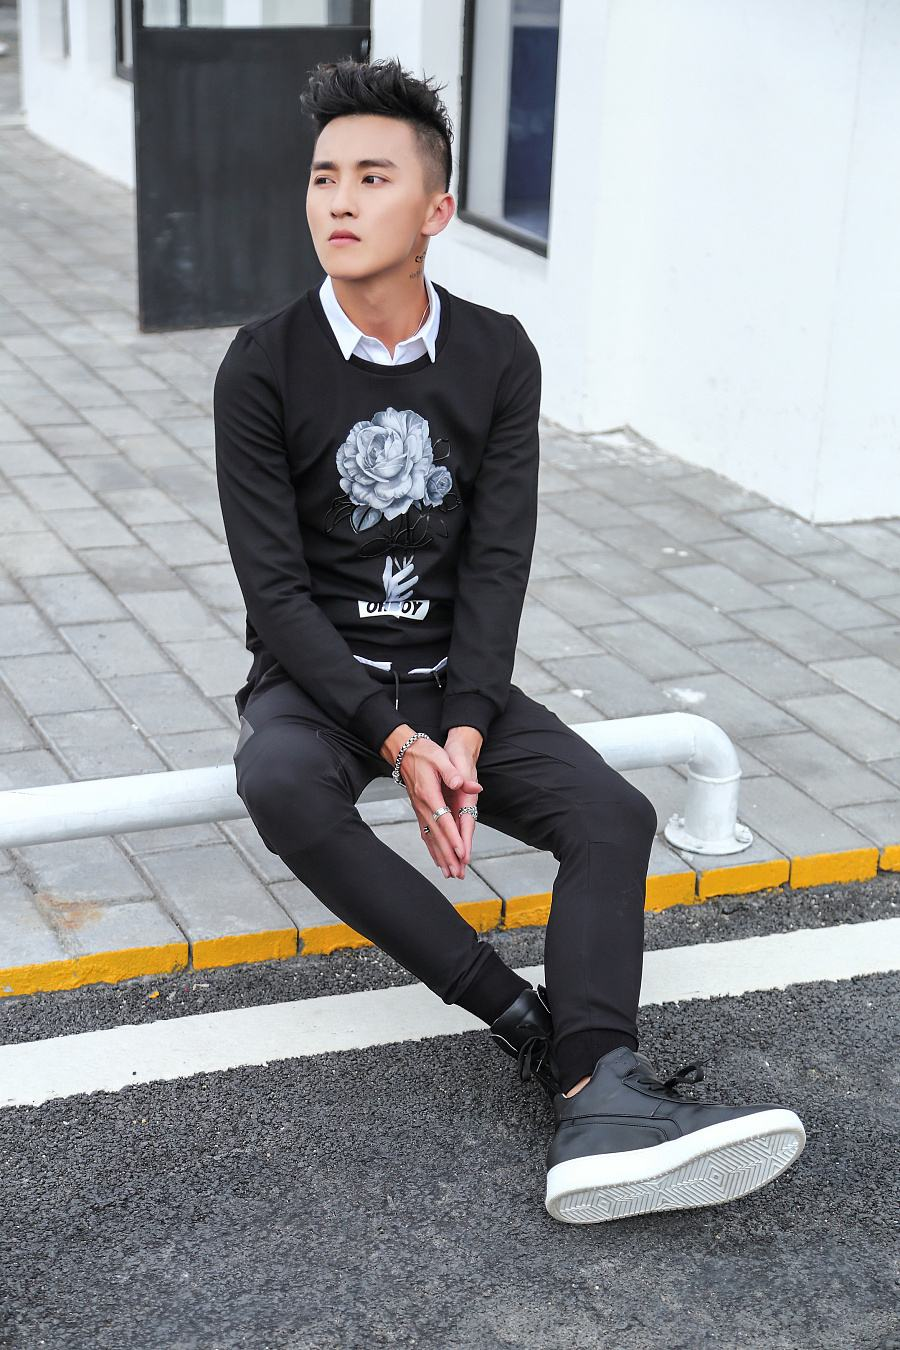person: (215, 27, 890, 1248)
